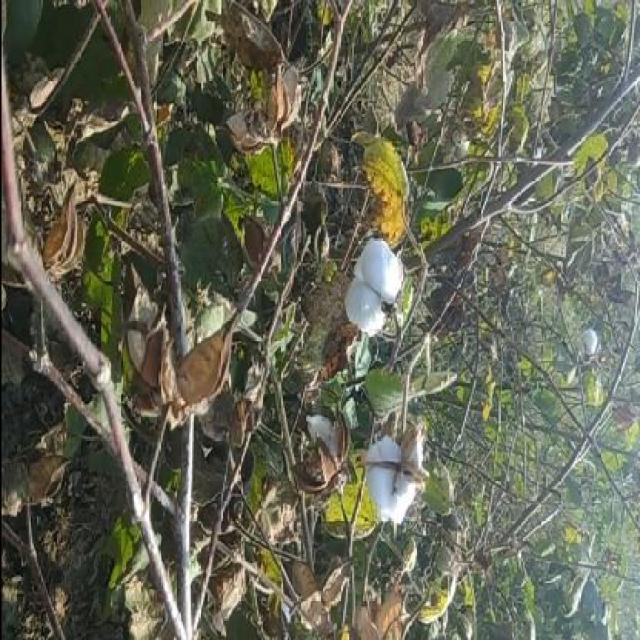cotton_ready: (316, 235, 402, 354), (343, 428, 435, 530)
